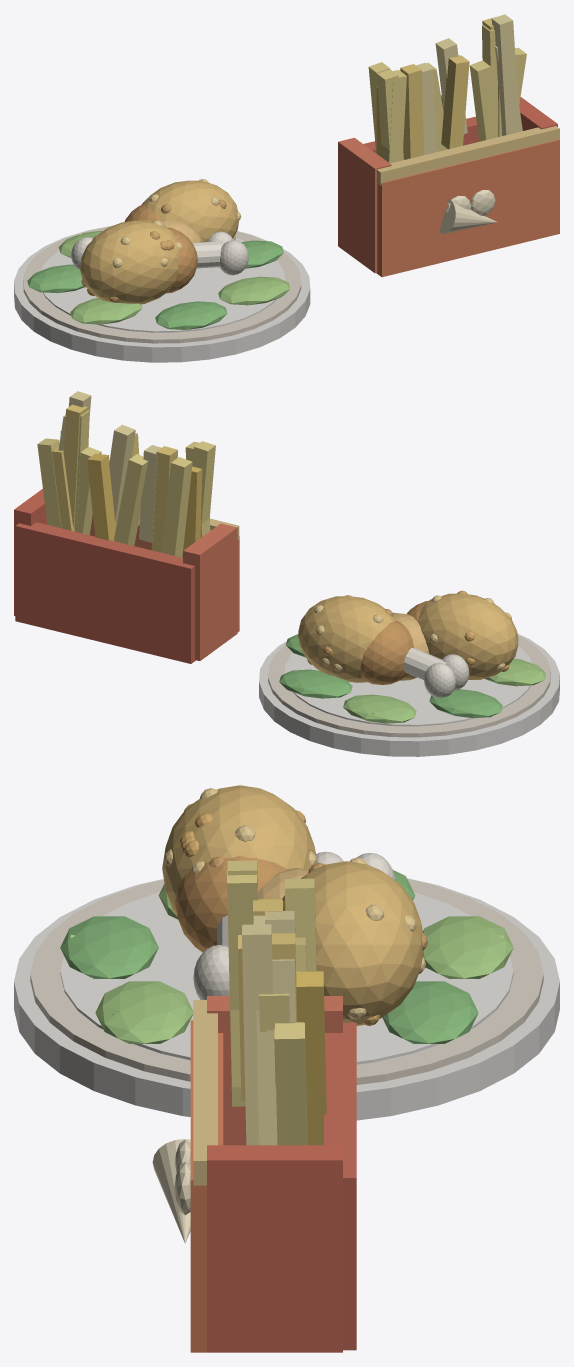
The model's file is combo_ga_khoai.glb.
3 views of the same model, one above another, from view 1: azimuth 30°, elevation 25°; view 2: azimuth 150°, elevation 25°; view 3: azimuth 270°, elevation 25° (orthographic). The views are drawn at different scales.
Parts seen in each view (by area): view 1: combo_node_0075, combo_node_0000, combo_node_0017, combo_node_0002, combo_node_0001, combo_node_0076, combo_node_0045, combo_node_0079, combo_node_0088, combo_node_0083, combo_node_0080, combo_node_0091 (+18 smaller); view 2: combo_node_0074, combo_node_0000, combo_node_0017, combo_node_0076, combo_node_0045, combo_node_0001, combo_node_0002, combo_node_0046, combo_node_0086, combo_node_0094, combo_node_0098, combo_node_0013 (+19 smaller); view 3: combo_node_0077, combo_node_0000, combo_node_0001, combo_node_0045, combo_node_0002, combo_node_0017, combo_node_0074, combo_node_0005, combo_node_0007, combo_node_0013, combo_node_0015, combo_node_0088 (+18 smaller).
Boxes of the visible parts, bbox=[...] form: combo_node_0075: bbox=[376, 139, 559, 277]; combo_node_0000: bbox=[14, 225, 310, 362]; combo_node_0017: bbox=[80, 220, 179, 304]; combo_node_0002: bbox=[41, 237, 284, 332]; combo_node_0001: bbox=[23, 226, 301, 343]; combo_node_0076: bbox=[338, 137, 391, 273]; combo_node_0045: bbox=[141, 180, 238, 242]; combo_node_0079: bbox=[377, 126, 559, 185]; combo_node_0088: bbox=[491, 14, 519, 135]; combo_node_0083: bbox=[441, 55, 469, 149]; combo_node_0080: bbox=[400, 64, 423, 159]; combo_node_0091: bbox=[469, 60, 498, 141]; combo_node_0074: bbox=[15, 522, 195, 663]; combo_node_0000: bbox=[259, 634, 559, 756]; combo_node_0017: bbox=[417, 593, 518, 679]; combo_node_0076: bbox=[183, 523, 237, 660]; combo_node_0045: bbox=[298, 596, 396, 682]; combo_node_0001: bbox=[268, 635, 550, 737]; combo_node_0002: bbox=[284, 646, 531, 726]; combo_node_0046: bbox=[360, 620, 414, 684]; combo_node_0086: bbox=[161, 457, 192, 557]; combo_node_0094: bbox=[87, 453, 116, 540]; combo_node_0098: bbox=[114, 454, 148, 545]; combo_node_0013: bbox=[343, 694, 416, 723]; combo_node_0077: bbox=[207, 1145, 342, 1352]; combo_node_0000: bbox=[14, 878, 559, 1120]; combo_node_0001: bbox=[30, 879, 543, 1084]; combo_node_0045: bbox=[282, 861, 423, 1025]; combo_node_0002: bbox=[60, 892, 513, 1064]; combo_node_0017: bbox=[162, 785, 317, 915]; combo_node_0074: bbox=[324, 1022, 356, 1350]; combo_node_0005: bbox=[95, 981, 193, 1043]; combo_node_0007: bbox=[60, 916, 158, 978]; combo_node_0013: bbox=[423, 916, 513, 978]; combo_node_0015: bbox=[382, 981, 478, 1043]; combo_node_0088: bbox=[242, 924, 272, 1145].
Bounding box in the file's own units: 2.67 × 1.07 × 1.37.
